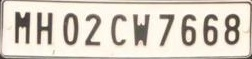character: (35, 10, 53, 45), (131, 12, 150, 45), (13, 10, 30, 44), (84, 12, 101, 46), (157, 12, 174, 46), (110, 12, 127, 45), (62, 12, 78, 45), (180, 13, 196, 46), (202, 13, 218, 46), (223, 13, 240, 44)
